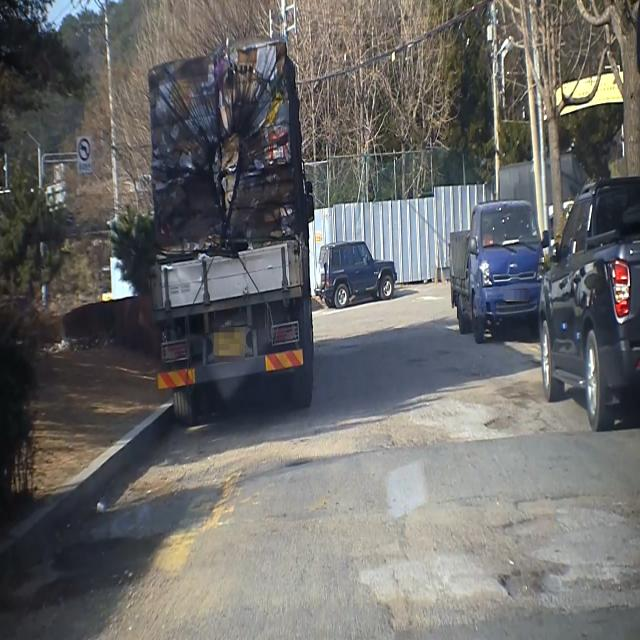Pothole: (493, 557, 573, 615), (471, 394, 552, 442)
